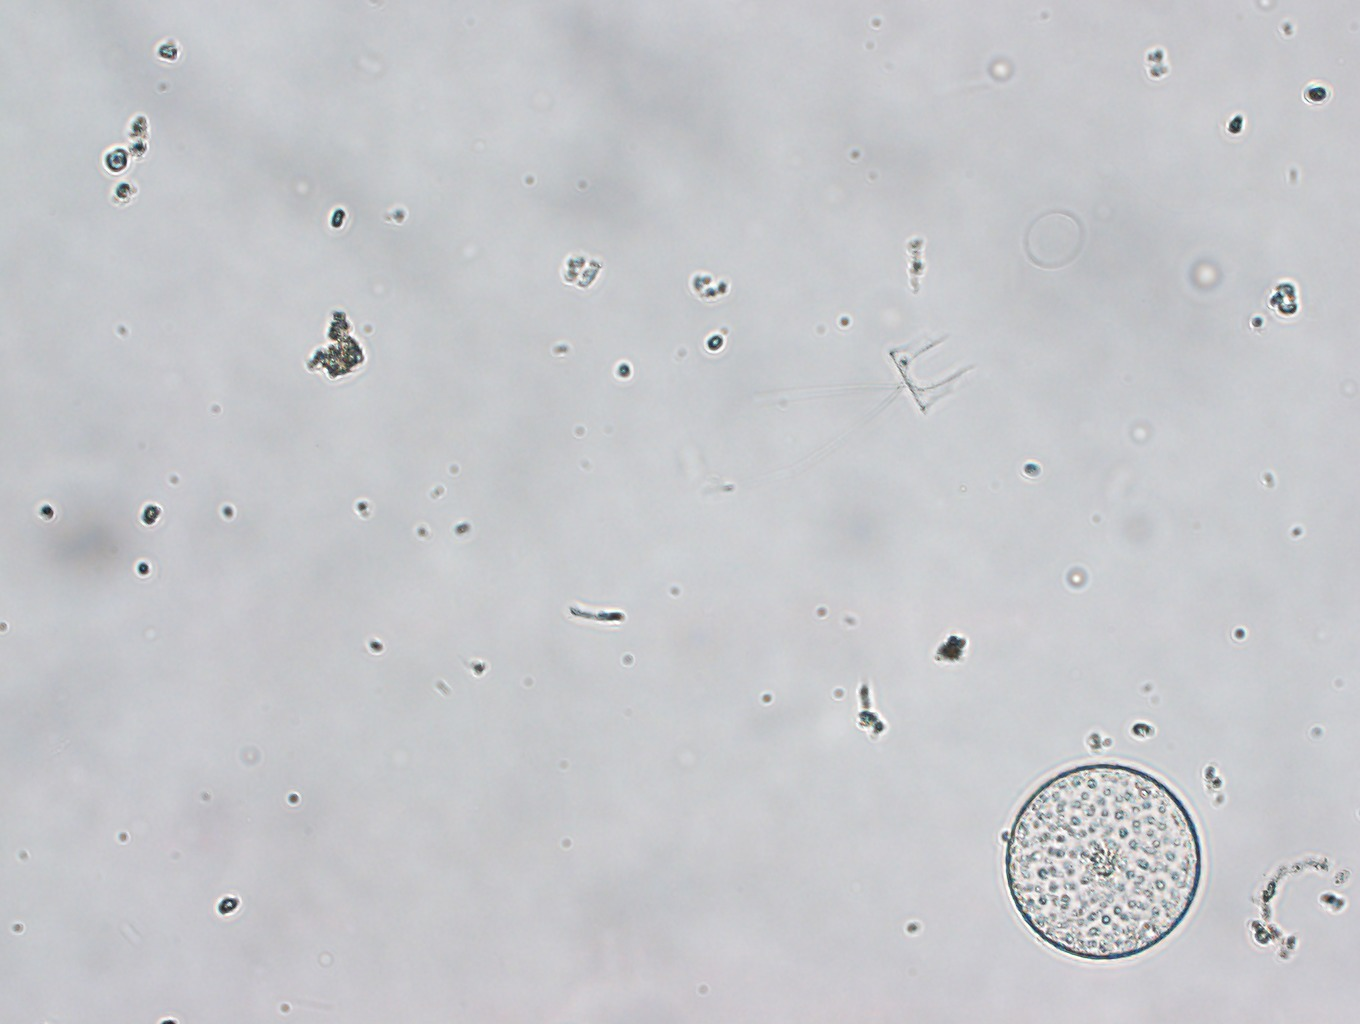coscinodiscus: (998, 757, 1209, 965)
